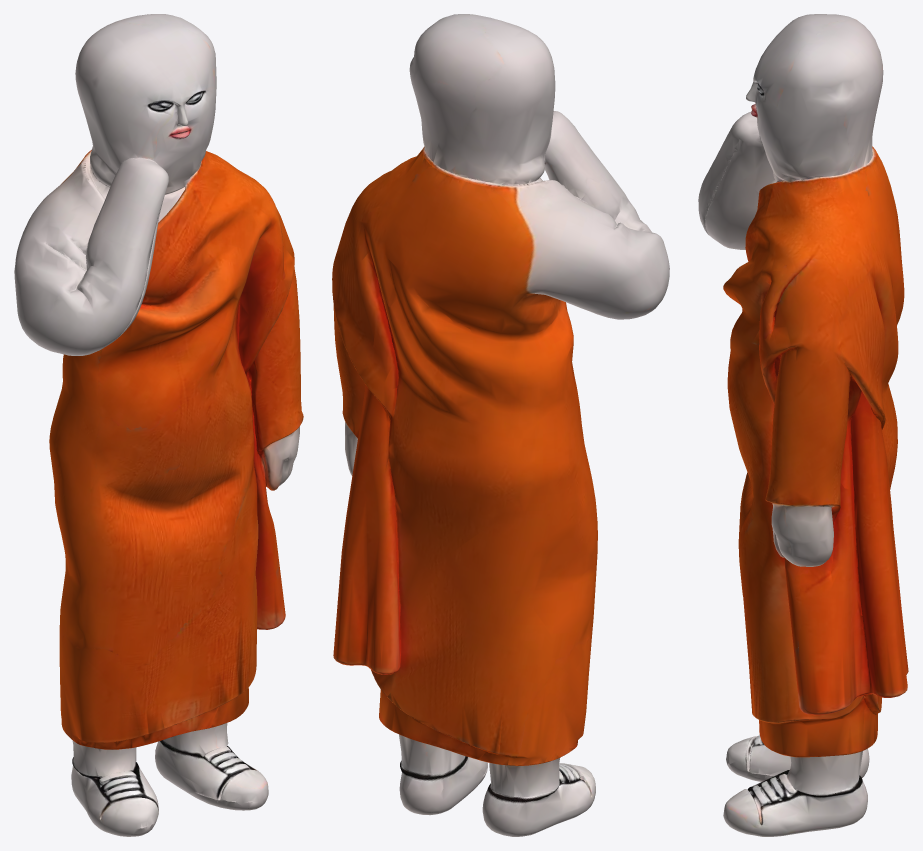
The model's file is vanhxay_doll.glb.
3 renders of one model, left to right at view 1: azimuth 30°, elevation 25°; view 2: azimuth 150°, elevation 25°; view 3: azimuth 270°, elevation 25°, orthographic. The views are drawn at different scales.
Visible parts, largest first — view 1: model; view 2: model; view 3: model.
Part boxes in pixels (<box>): model: <box>14,14,303,836</box>; model: <box>332,14,669,836</box>; model: <box>698,14,908,836</box>.
Bounding box in the file's own units: 0.7465 × 1.9 × 0.4687.
1 material, 1 textured.
